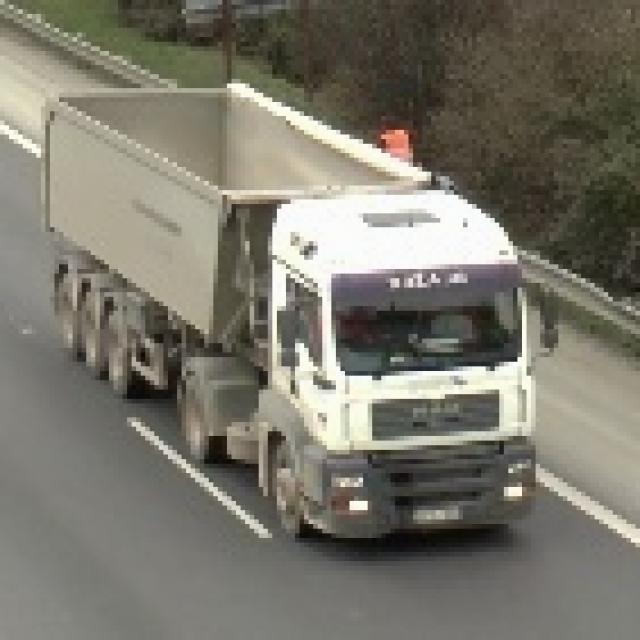TRUCK: (27, 89, 545, 547)
